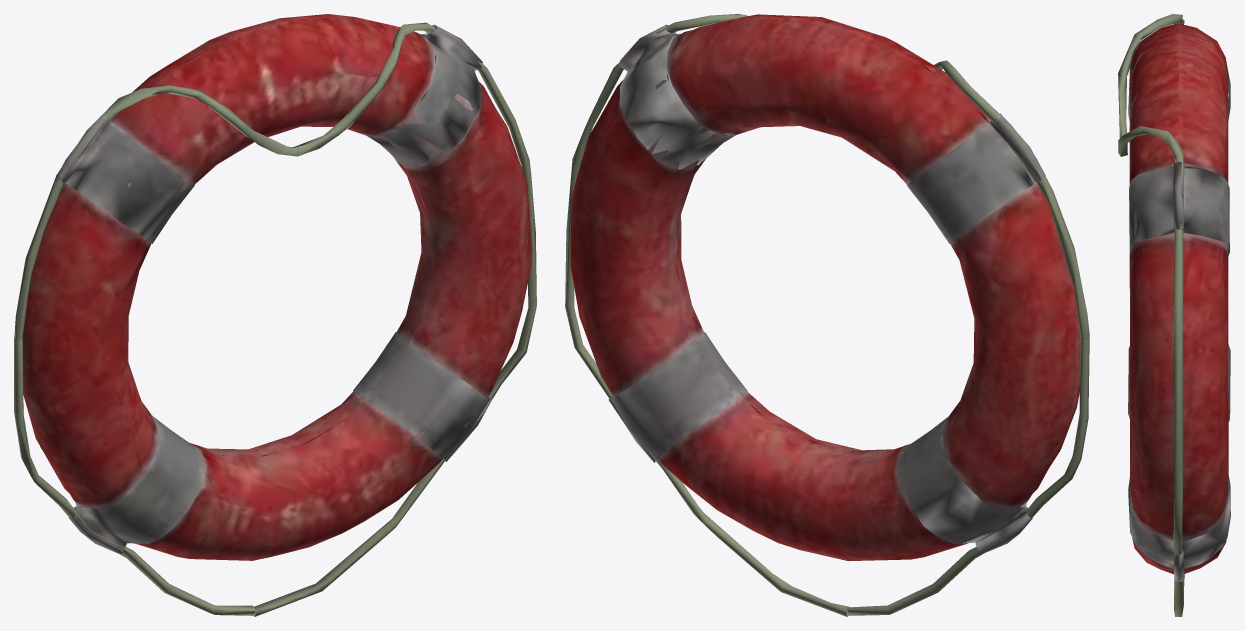
Rendered from ph_lifebuoy.glb.
3 renders of one model, left to right at view 1: azimuth 30°, elevation 25°; view 2: azimuth 150°, elevation 25°; view 3: azimuth 270°, elevation 25°, orthographic. The views are drawn at different scales.
Parts seen in each view (by area): view 1: lifebuoy; view 2: lifebuoy; view 3: lifebuoy.
Boxes of the visible parts, <box> form: lifebuoy: <box>14,14,536,616</box>; lifebuoy: <box>565,14,1089,616</box>; lifebuoy: <box>1118,14,1230,616</box>.
Size of the model in its own units: 0.7828 by 0.8399 by 0.1548.
Materials: 1 (1 with a texture image).
